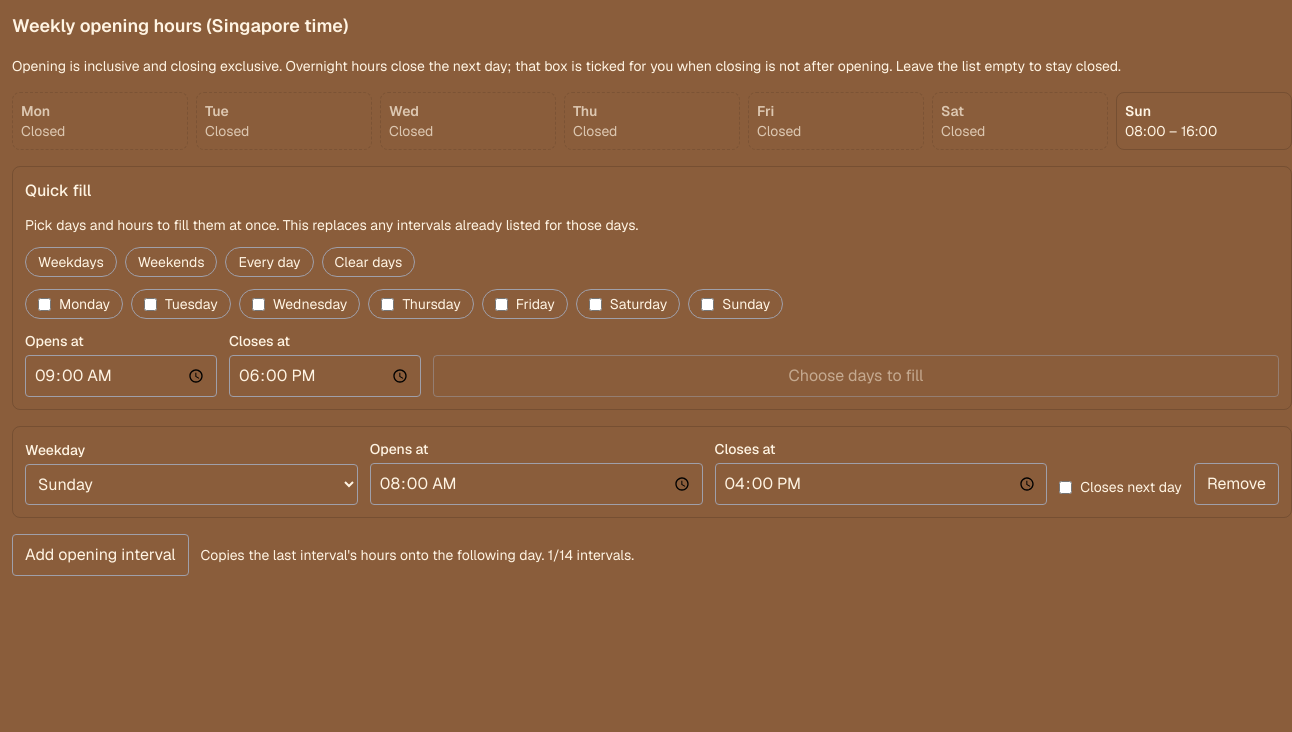
Test: adding an interval continues from the last interval's day and hours
Click the button "Add opening interval".
click(100, 555)  # box [12,534,189,576]
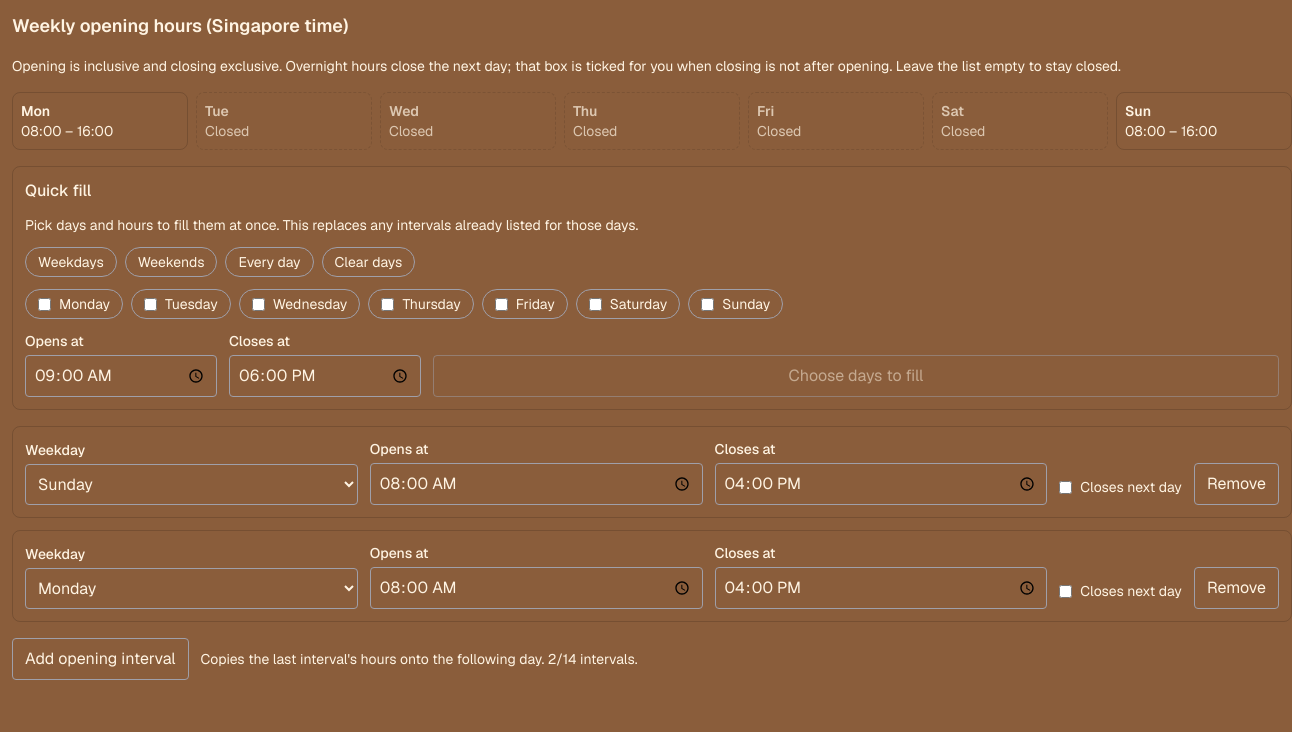
Expected: the button named "Remove interval 2" is shown, [1194,567,1279,609]
